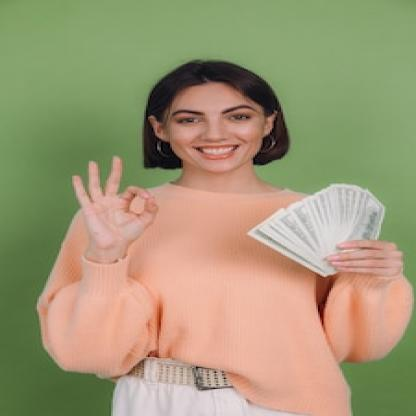ok: (65, 154, 162, 252)
